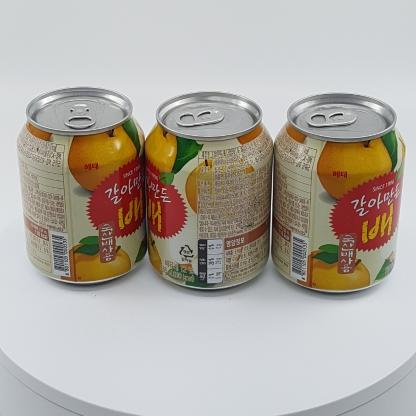-------238ML: (271, 92, 406, 293), (17, 86, 149, 286), (144, 91, 273, 290)
